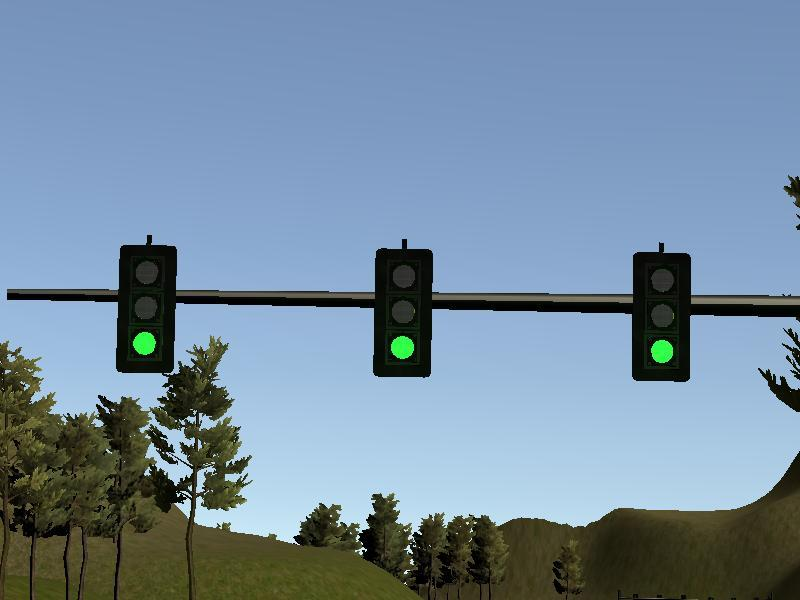Green: (634, 253, 690, 380), (119, 246, 174, 369), (377, 250, 430, 377)
